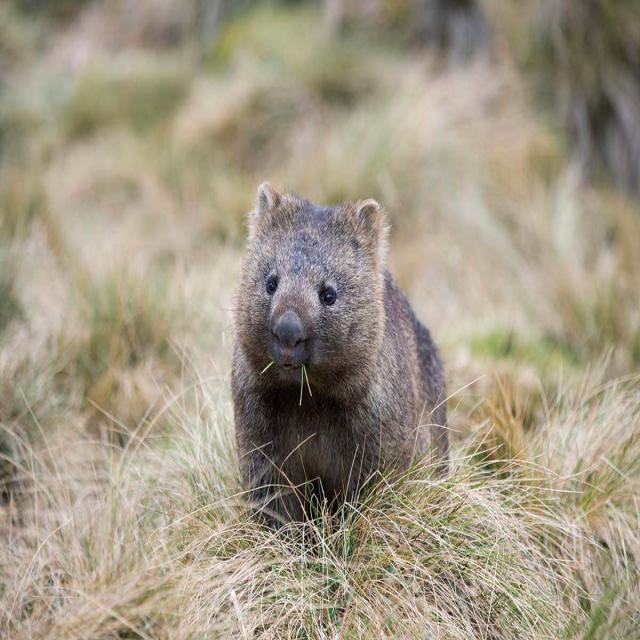wombats: (231, 183, 449, 524)
